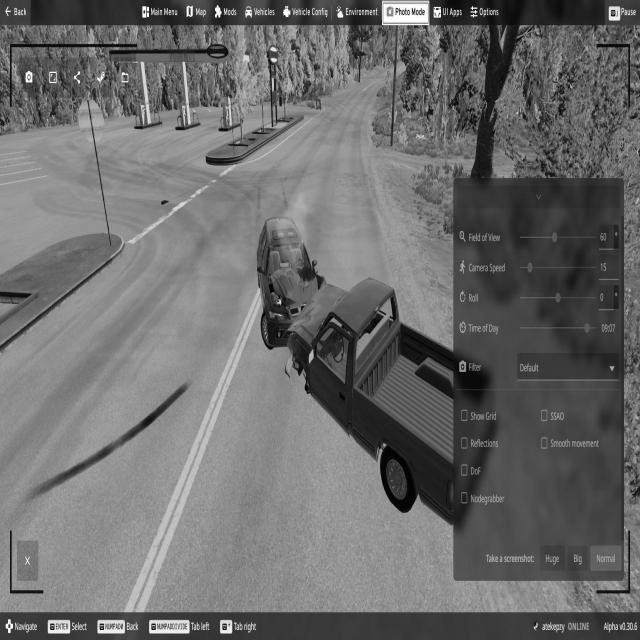accident: (255, 210, 498, 540)
